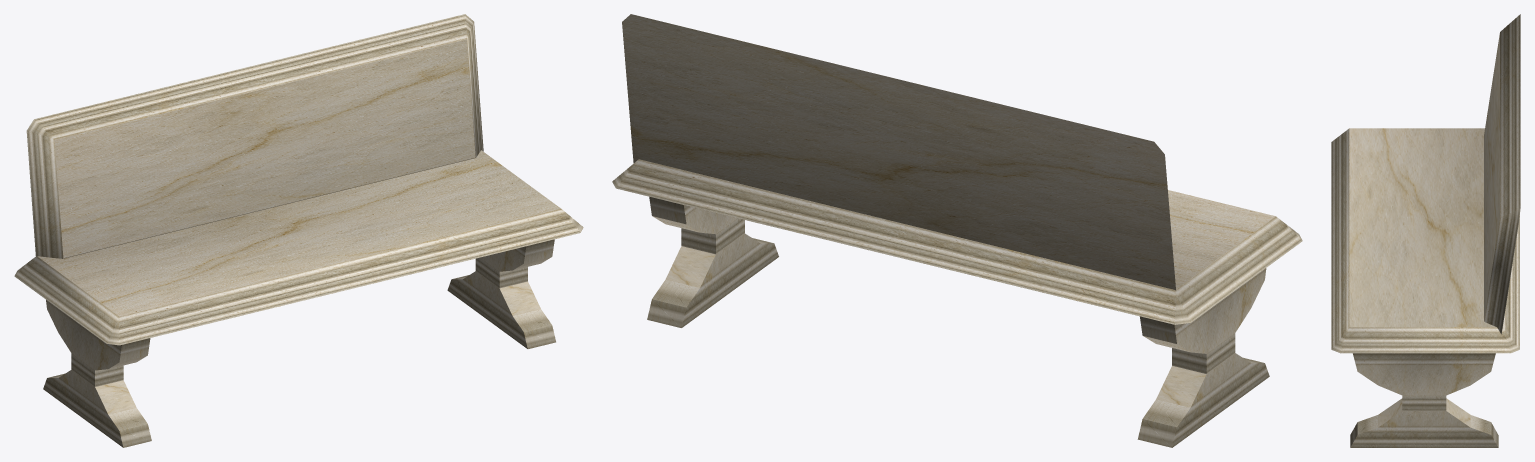
The model's file is mm9_deco_benchstone01.glb.
3 views of the same model, side by side, from view 1: azimuth 30°, elevation 25°; view 2: azimuth 150°, elevation 25°; view 3: azimuth 270°, elevation 25° (orthographic). The views are drawn at different scales.
Visible parts, largest first — view 1: Benchstone01; view 2: Benchstone01; view 3: Benchstone01.
Part boxes in pixels (x1=…): Benchstone01: x1=14, y1=14, x2=583, y2=447; Benchstone01: x1=612, y1=14, x2=1302, y2=447; Benchstone01: x1=1331, y1=14, x2=1520, y2=447.
Bounding box in the file's own units: 2.61 × 1.36 × 0.9724.
2 materials, 2 textured.
